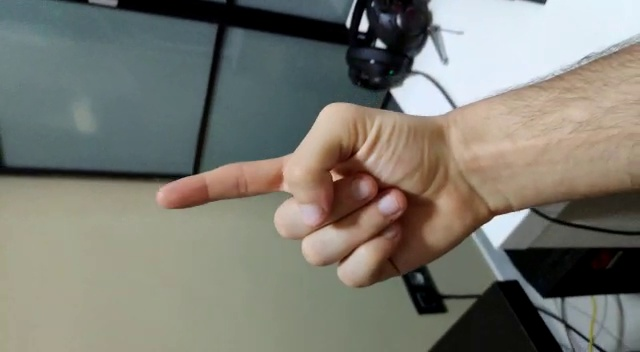One: (154, 101, 451, 293)
